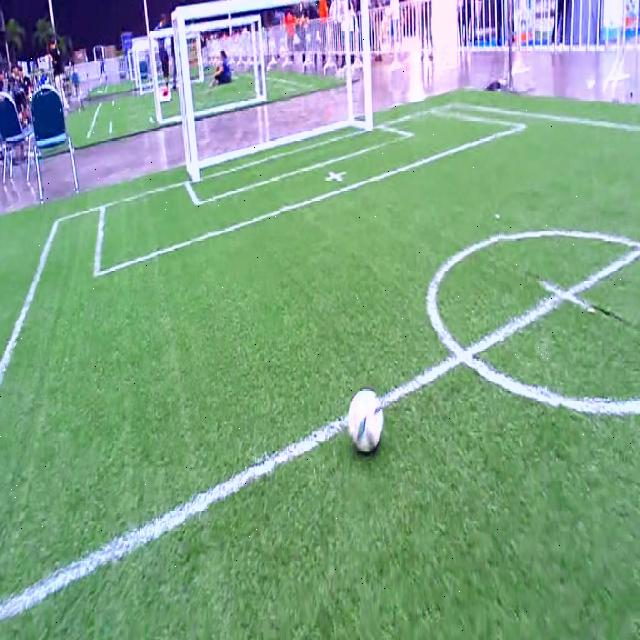ball: (347, 389, 384, 450)
